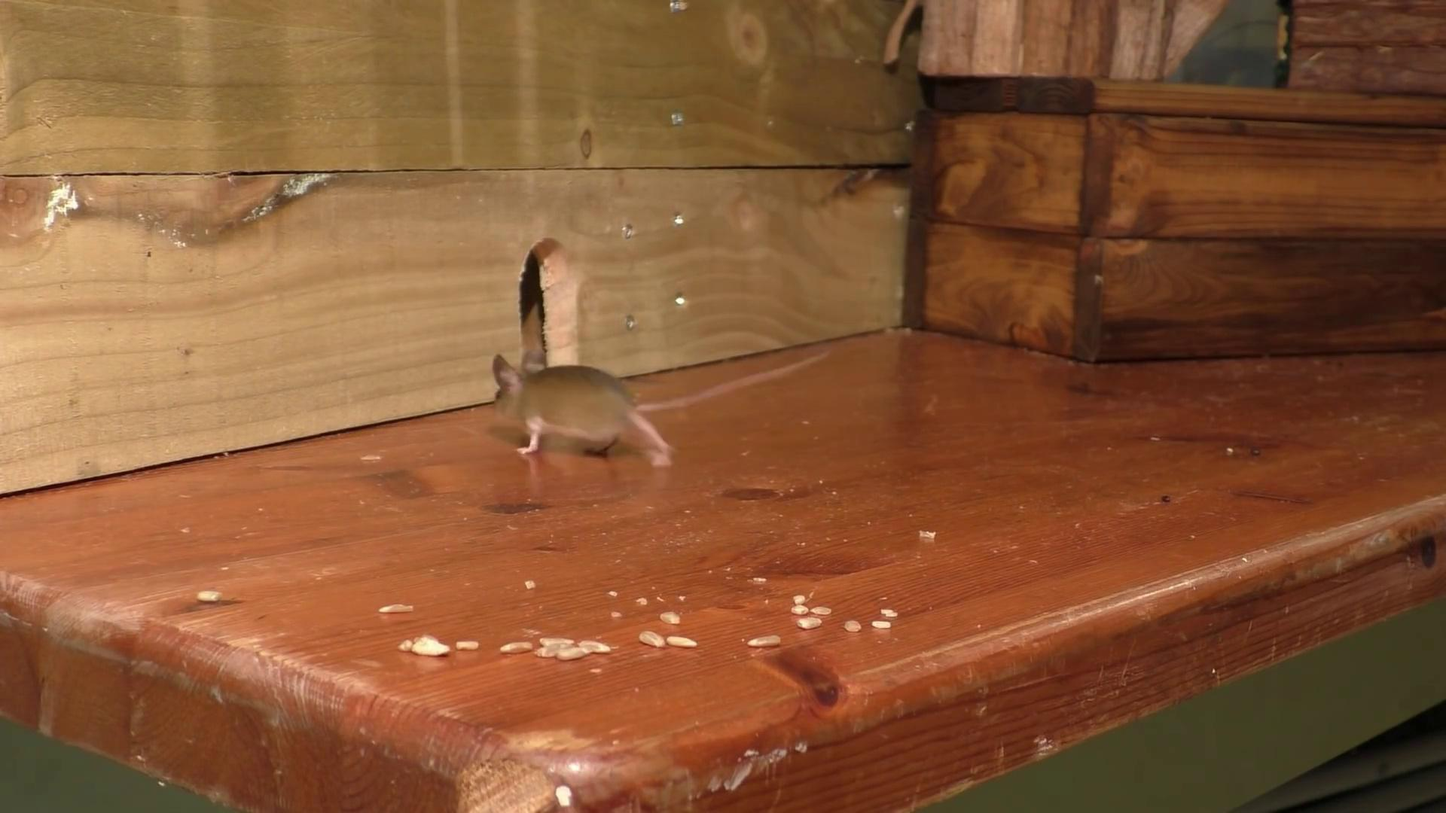rat: (492, 346, 830, 467)
